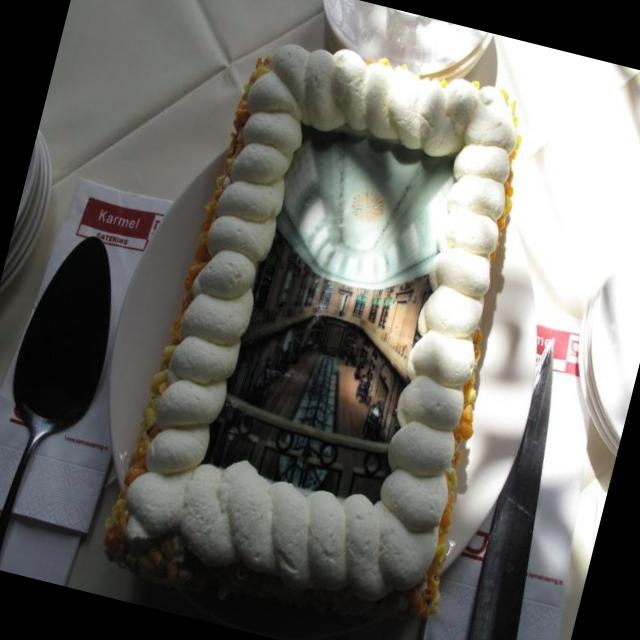Knife: (465, 345, 554, 640)
